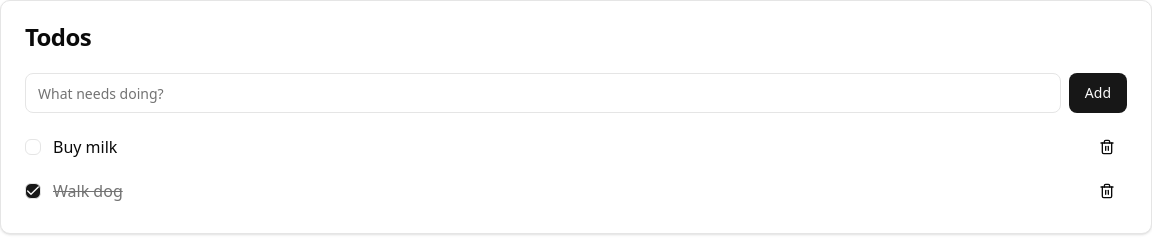
Scenario: TodoList › enters edit mode when a todo title is clicked
The image size is (1152, 252).
Click the button named "Edit \"Buy milk\"" at (85, 147), box [53,136,117,158]
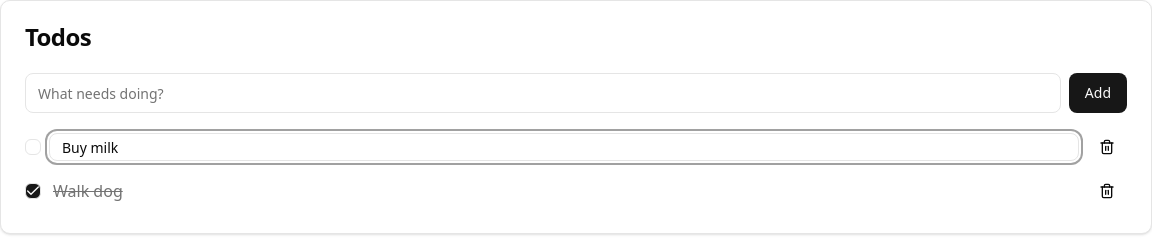
Expected: the field showing "Buy milk" is shown, [49,133,1079,161]
